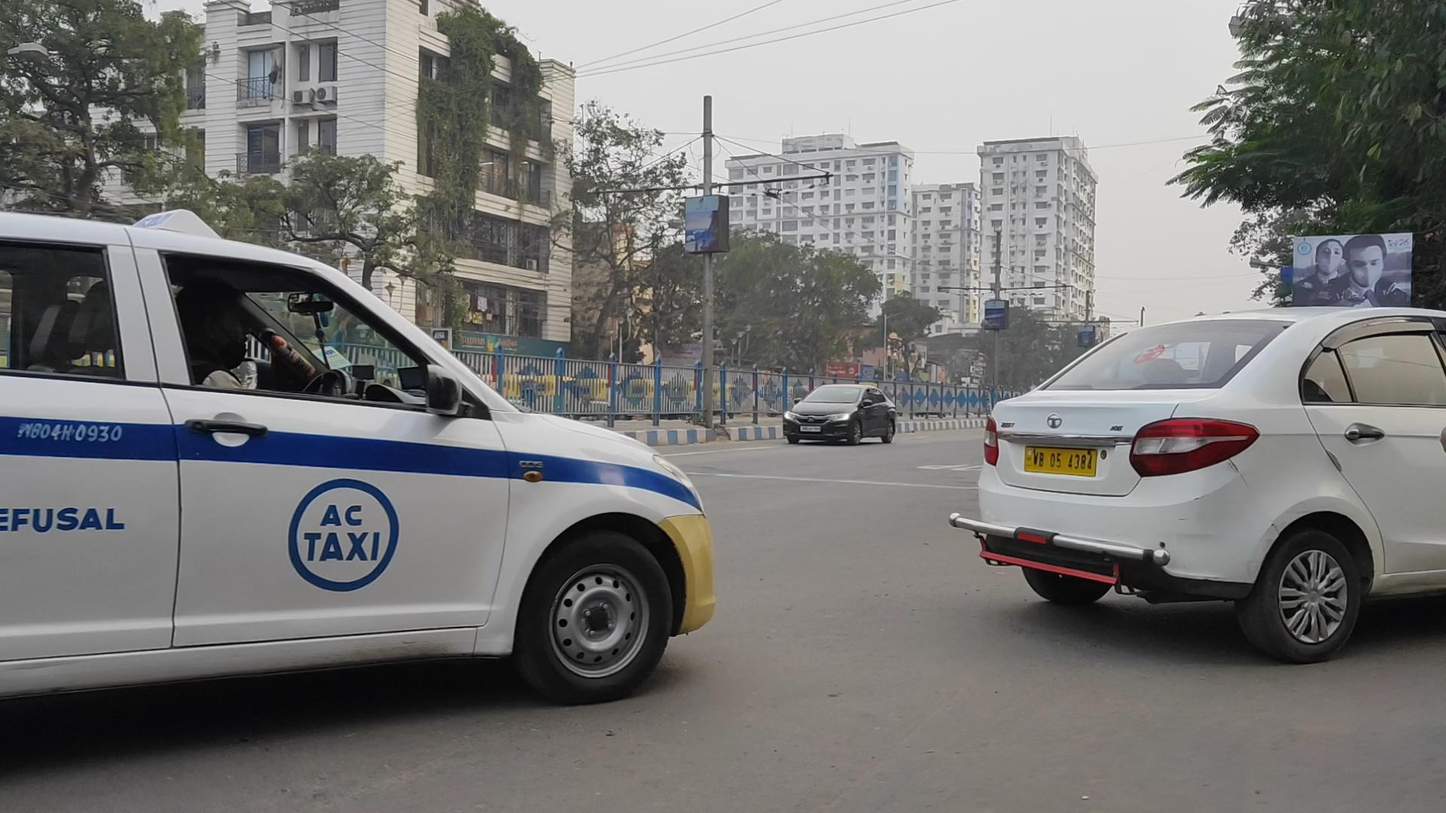car: (1, 206, 716, 708), (975, 305, 1446, 664), (781, 383, 898, 449)
